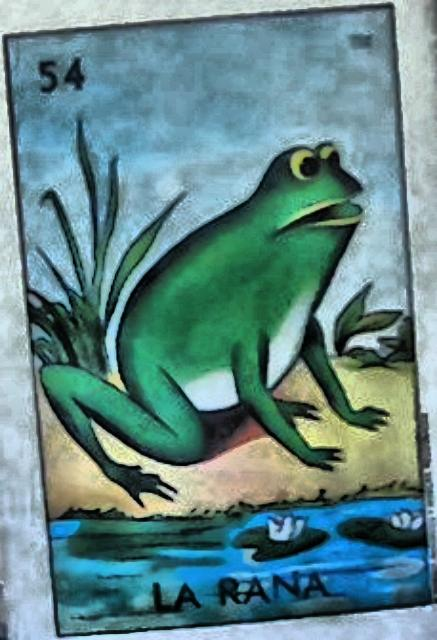La Rana: (6, 9, 435, 637)
